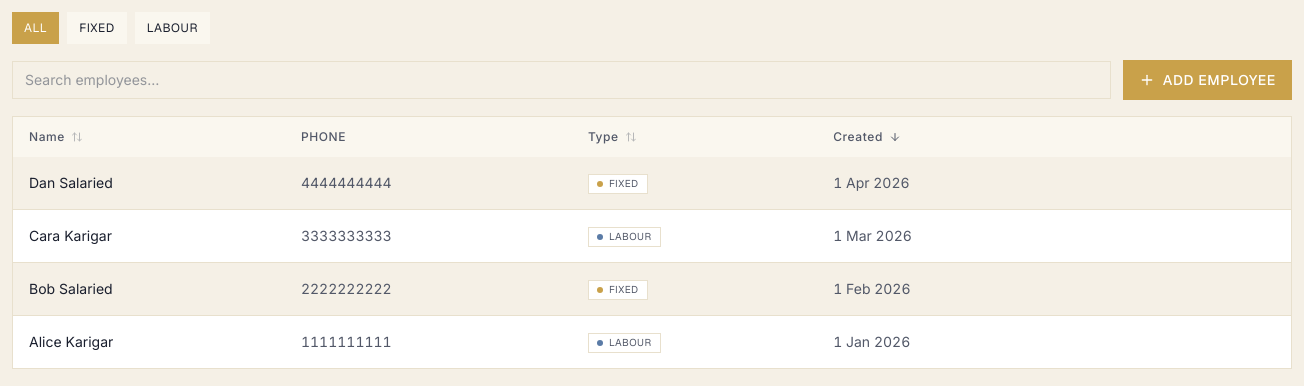
Scenario: EmployeesTable › filter pills › clicking 'All' pill restores all rows
The width and height of the screenshot is (1304, 386).
What coordinates should you click on to do the following:
click the radio button labelled "Fixed"
I would click on:
 (97, 28)
Its box is [67,12,127,44].
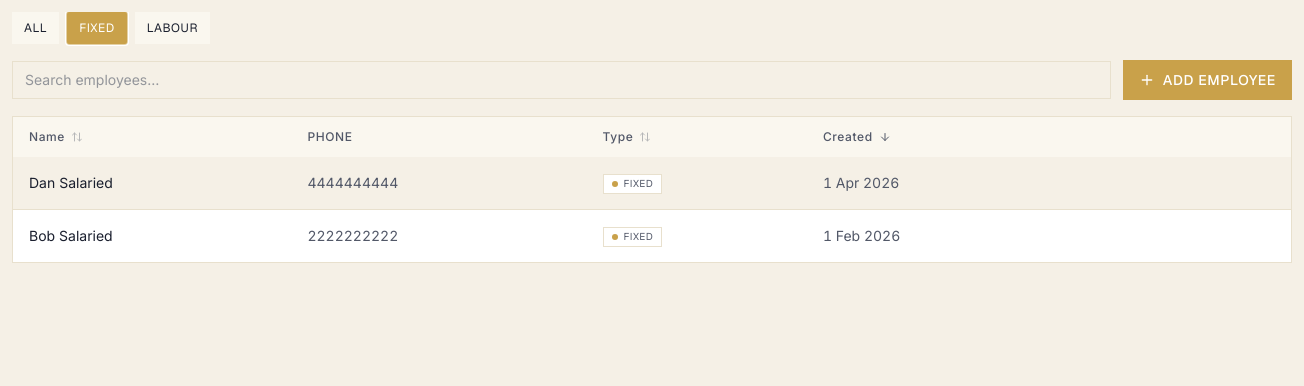
Check: the text "Alice Karigar" is gone
What coordinates should you click on to do the following:
click the radio button labelled "All"
I would click on:
 (36, 28)
Its box is [12,12,59,44].
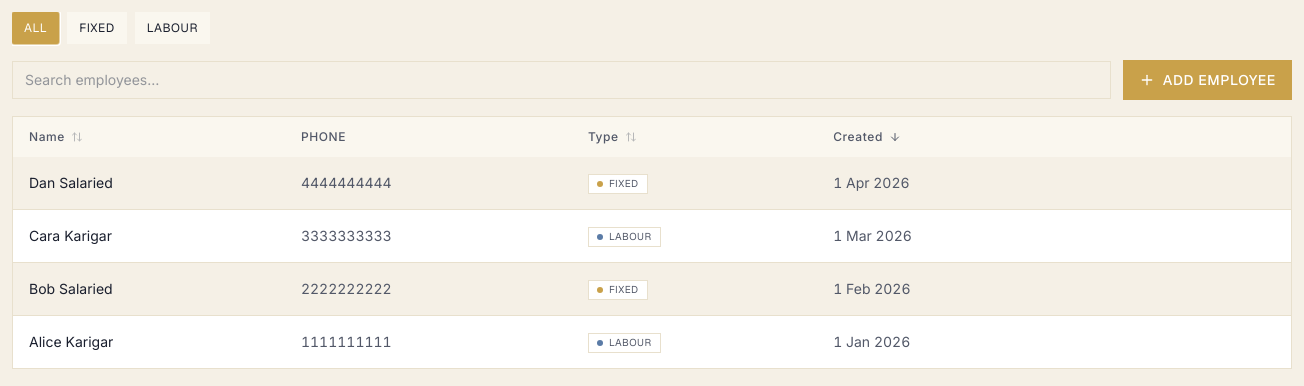
Check: the text "Bob Salaried" is shown, box [29,280,113,297]
Check: the text "Alice Karigar" is shown, box [29,333,113,350]
Check: the text "Cara Karigar" is shown, box [29,227,112,244]
